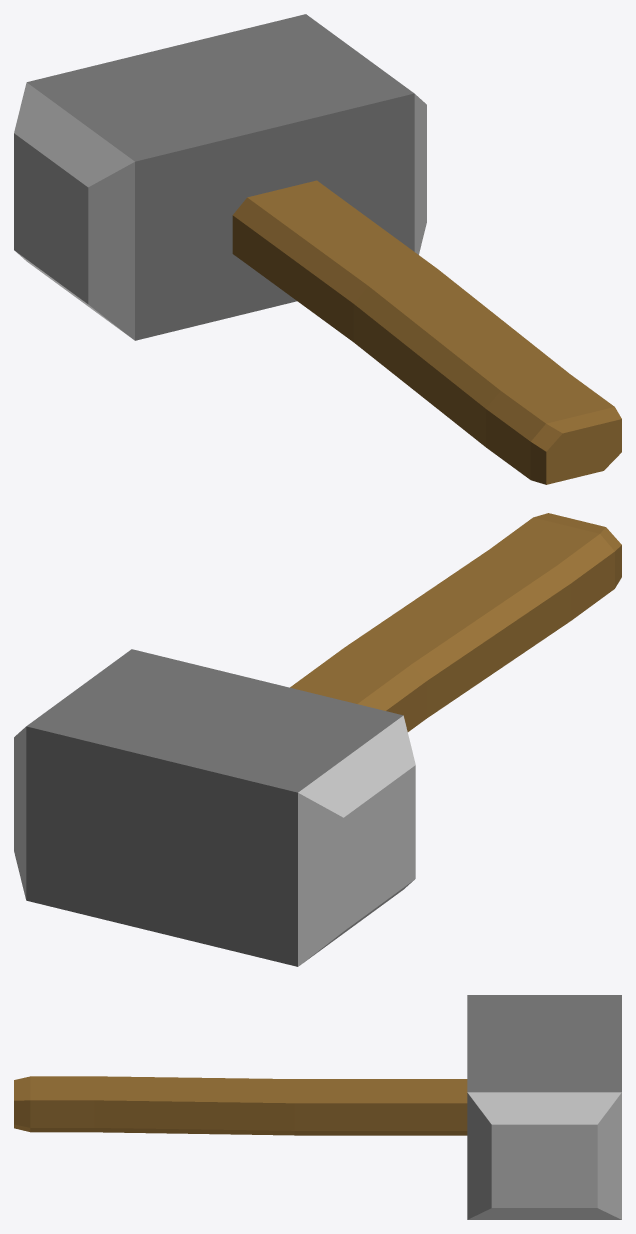
Rendered from Stone_Hammer.fbx.
3 renders of one model, top to bottom at view 1: azimuth 30°, elevation 25°; view 2: azimuth 150°, elevation 25°; view 3: azimuth 270°, elevation 25°, orthographic. The views are drawn at different scales.
Parts seen in each view (by area): view 1: Obj_Stone_Hammer; view 2: Obj_Stone_Hammer; view 3: Obj_Stone_Hammer.
Boxes of the visible parts, x1=… form: Obj_Stone_Hammer: x1=14, y1=14, x2=621, y2=484; Obj_Stone_Hammer: x1=14, y1=513, x2=621, y2=966; Obj_Stone_Hammer: x1=14, y1=995, x2=621, y2=1219.
Bounding box in the file's own units: 20.21 × 10.21 × 44.05.
